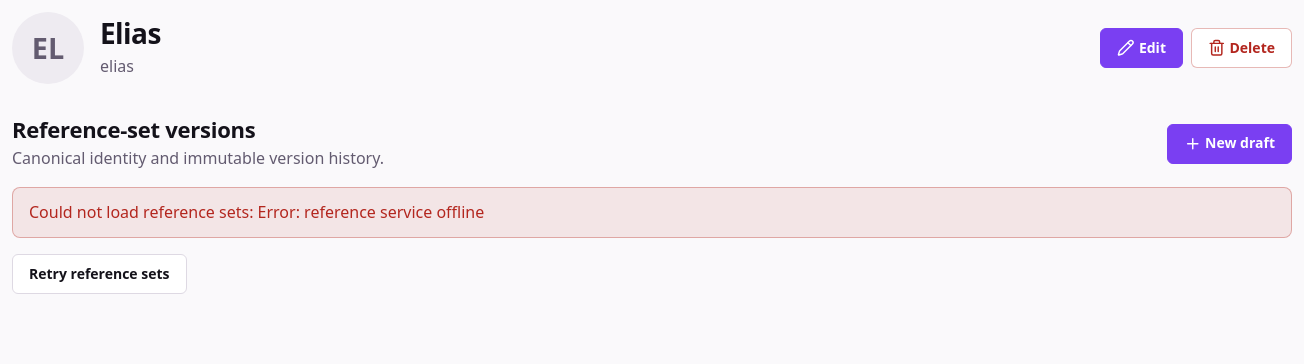
CharacterDetailPage routing › keeps character content visible when reference sets fail and retries the section
Expected: the heading "Elias" is shown, left=100, top=14, right=161, bottom=52
Click the button "Retry reference sets" at (99, 274), box left=12, top=254, right=186, bottom=294
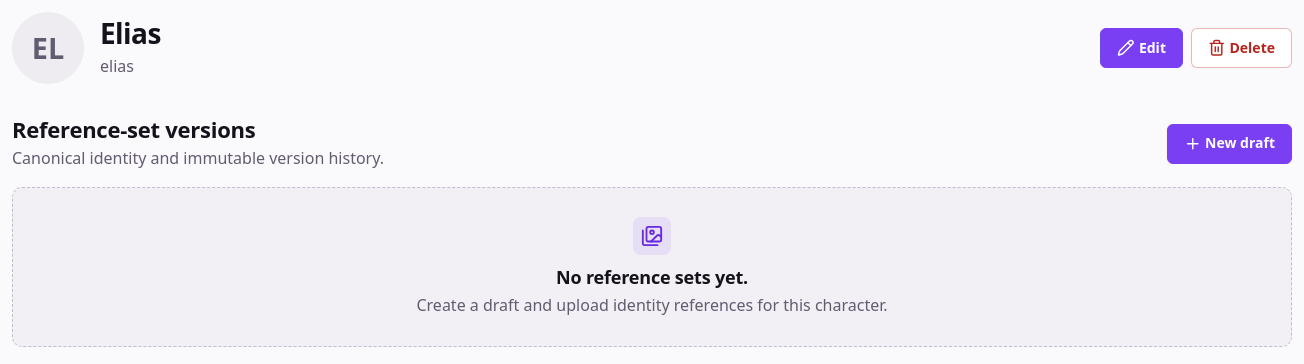
Now the heading "No reference sets yet." is shown, box left=556, top=265, right=748, bottom=289
